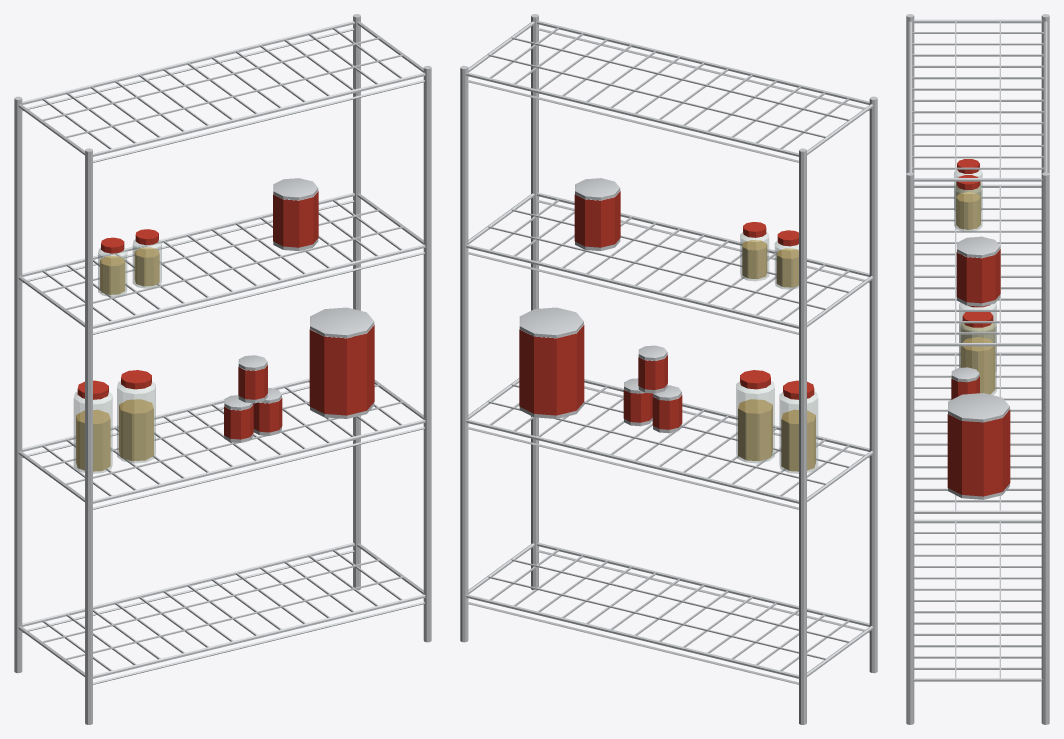
File: rack_wire_sparse.glb
3 renders of one model, left to right at view 1: azimuth 30°, elevation 25°; view 2: azimuth 150°, elevation 25°; view 3: azimuth 270°, elevation 25°, orthographic. The views are drawn at different scales.
Visible parts, largest first — view 1: rack_wire_sparse, pantry_items_2, pantry_items_3; view 2: rack_wire_sparse, pantry_items_2, pantry_items_3; view 3: rack_wire_sparse, pantry_items_2, pantry_items_3.
Boxes of the visible parts, x1,y1,x2,y2 form: rack_wire_sparse: (14,14,431,724); pantry_items_2: (73,307,374,473); pantry_items_3: (98,178,318,296); rack_wire_sparse: (460,14,877,724); pantry_items_2: (519,307,818,473); pantry_items_3: (574,178,798,289); rack_wire_sparse: (906,14,1049,724); pantry_items_2: (947,302,1010,499); pantry_items_3: (954,159,1000,306).
Size of the model in its own units: 1.2 by 1.9 by 0.45.
